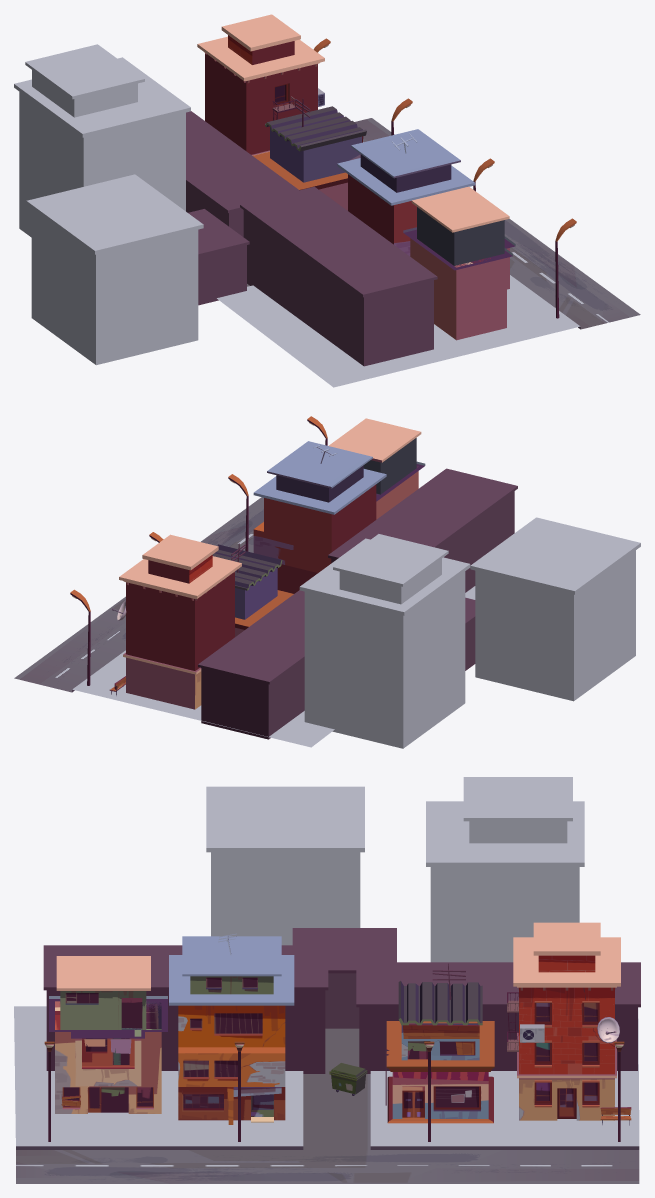
File: City.glb
3 views of the same model, one above another, from view 1: azimuth 30°, elevation 25°; view 2: azimuth 150°, elevation 25°; view 3: azimuth 270°, elevation 25° (orthographic). The views are drawn at different scales.
Visible parts, largest first — view 1: Cube_Road_0.001, Plane_Road_0.001, 1.001_Bina1_0.001, 4.001_Bina4_0.001, 3.001_Bina3_0.001, 2.001_Bina2_0.001, Lights.001_Others_0.001; view 2: Cube_Road_0.001, 1.001_Bina1_0.001, 3.001_Bina3_0.001, Plane_Road_0.001, 4.001_Bina4_0.001, 2.001_Bina2_0.001, Lights.001_Others_0.001; view 3: Cube_Road_0.001, Plane_Road_0.001, 3.001_Bina3_0.001, 1.001_Bina1_0.001, 4.001_Bina4_0.001, 2.001_Bina2_0.001, Lights.001_Others_0.001, Garbage.001_Others_0.001.
Part boxes in pixels (bbox=[...]): Cube_Road_0.001: bbox=[14, 44, 437, 366]; Plane_Road_0.001: bbox=[217, 118, 640, 387]; 1.001_Bina1_0.001: bbox=[197, 14, 324, 155]; 4.001_Bina4_0.001: bbox=[403, 186, 515, 340]; 3.001_Bina3_0.001: bbox=[337, 129, 475, 256]; 2.001_Bina2_0.001: bbox=[253, 98, 366, 210]; Lights.001_Others_0.001: bbox=[313, 38, 576, 318]; Cube_Road_0.001: bbox=[198, 468, 640, 748]; 1.001_Bina1_0.001: bbox=[112, 534, 241, 709]; 3.001_Bina3_0.001: bbox=[253, 441, 386, 593]; Plane_Road_0.001: bbox=[14, 497, 475, 747]; 4.001_Bina4_0.001: bbox=[328, 418, 425, 519]; 2.001_Bina2_0.001: bbox=[212, 543, 293, 636]; Lights.001_Others_0.001: bbox=[70, 416, 327, 685]; Cube_Road_0.001: bbox=[43, 777, 640, 1073]; Plane_Road_0.001: bbox=[14, 1006, 639, 1183]; 3.001_Bina3_0.001: bbox=[169, 933, 294, 1124]; 1.001_Bina1_0.001: bbox=[507, 922, 620, 1120]; 4.001_Bina4_0.001: bbox=[49, 956, 167, 1113]; 2.001_Bina2_0.001: bbox=[385, 963, 494, 1123]; Lights.001_Others_0.001: bbox=[44, 1041, 624, 1141]; Garbage.001_Others_0.001: bbox=[329, 1063, 367, 1095].
Size of the model in its own units: 6.49 by 2.25 by 6.56.
6 materials, 6 textured.
